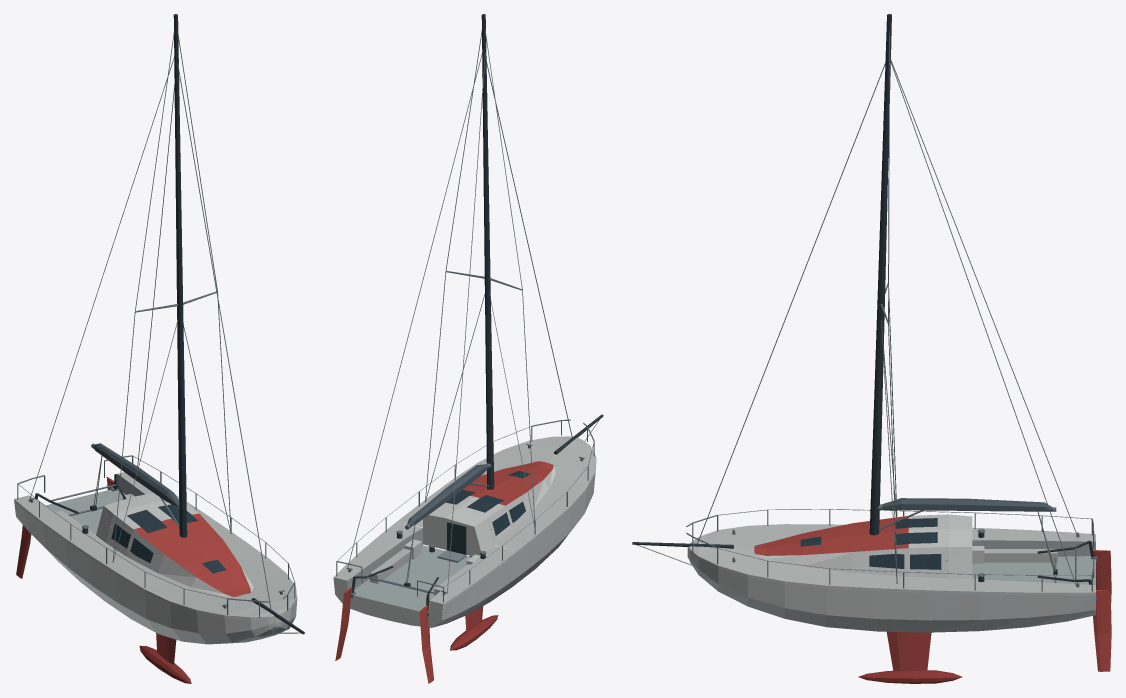
Rendered from KJP_Class40.glb.
3 renders of one model, left to right at view 1: azimuth 30°, elevation 25°; view 2: azimuth 150°, elevation 25°; view 3: azimuth 270°, elevation 25°, orthographic. The views are drawn at different scales.
Parts seen in each view (by area): view 1: KJP_Class40; view 2: KJP_Class40; view 3: KJP_Class40.
Boxes of the visible parts, <box> form: KJP_Class40: <box>14,14,304,683</box>; KJP_Class40: <box>333,14,603,683</box>; KJP_Class40: <box>632,14,1111,683</box>.
Bounding box in the file's own units: 4.5 × 22 × 14.31.
